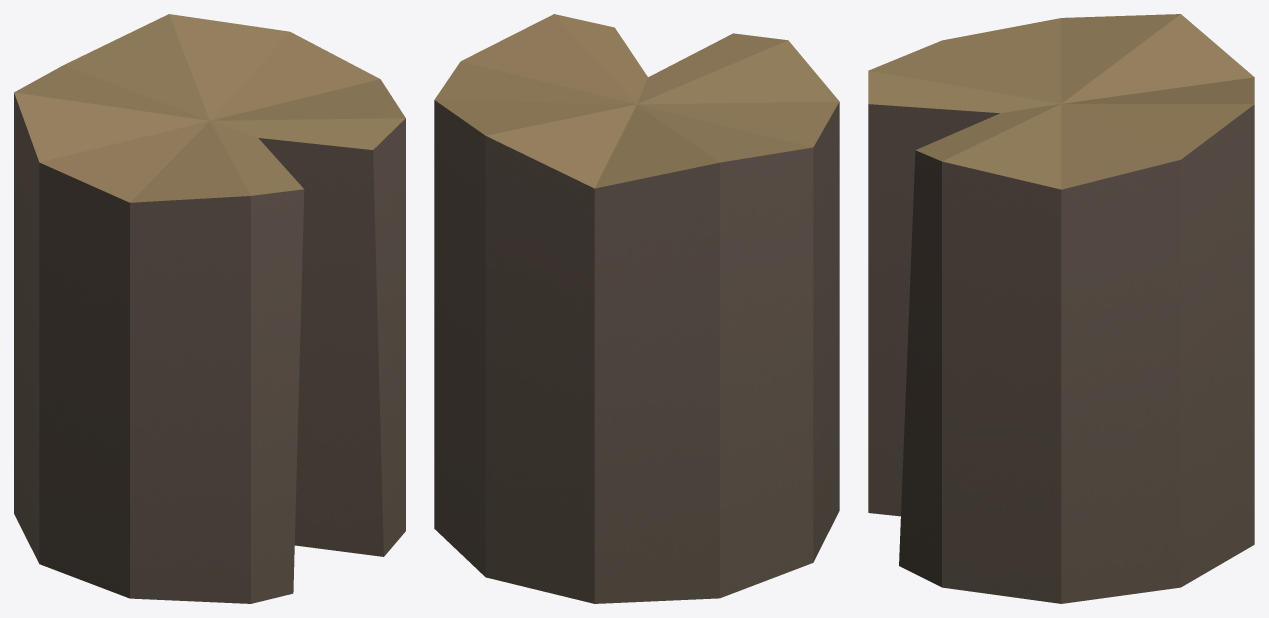
File: Lumber_3.fbx
The picture shows the model from 3 angles, left to right: view 1: azimuth 30°, elevation 25°; view 2: azimuth 150°, elevation 25°; view 3: azimuth 270°, elevation 25°; orthographic projection. The views are drawn at different scales.
Parts seen in each view (by area): view 1: pCylinder149; view 2: pCylinder149; view 3: pCylinder149.
Part boxes in pixels (x1,y1,x2,y2): pCylinder149: (14, 14, 405, 603); pCylinder149: (434, 14, 839, 603); pCylinder149: (868, 14, 1254, 603).
Size of the model in its own units: 80 by 95.69 by 76.08.
